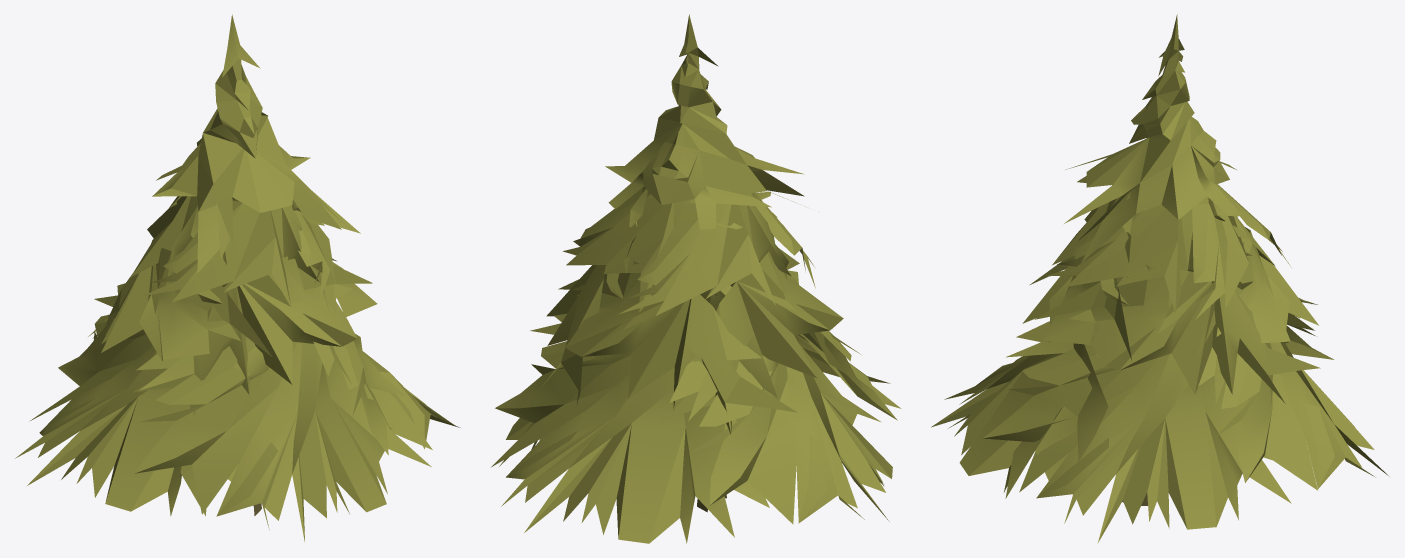
Rendered from pineTree.fbx.
3 views of the same model, side by side, from view 1: azimuth 30°, elevation 25°; view 2: azimuth 150°, elevation 25°; view 3: azimuth 270°, elevation 25° (orthographic). The views are drawn at different scales.
Parts seen in each view (by area): view 1: pineTreeNeedles; view 2: pineTreeNeedles; view 3: pineTreeNeedles.
Boxes of the visible parts, bbox=[...] form: pineTreeNeedles: bbox=[15, 14, 460, 541]; pineTreeNeedles: bbox=[491, 14, 901, 543]; pineTreeNeedles: bbox=[931, 14, 1388, 543].
Size of the model in its own units: 22.29 by 26.58 by 22.7.
